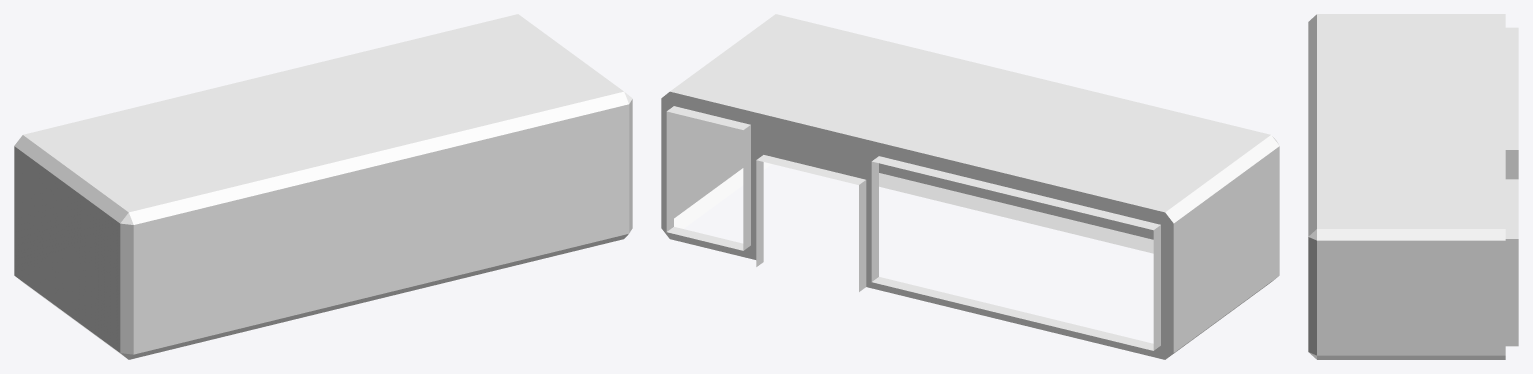
Rendered from MiscRoom_02_Walls.fbx.
3 renders of one model, left to right at view 1: azimuth 30°, elevation 25°; view 2: azimuth 150°, elevation 25°; view 3: azimuth 270°, elevation 25°, orthographic. The views are drawn at different scales.
Visible parts, largest first — view 1: MiscRoom_02_Walls; view 2: MiscRoom_02_Walls; view 3: MiscRoom_02_Walls.
Boxes of the visible parts, <box> form: MiscRoom_02_Walls: <box>14,14,632,359</box>; MiscRoom_02_Walls: <box>661,14,1279,359</box>; MiscRoom_02_Walls: <box>1308,14,1518,359</box>.
Bounding box in the file's own units: 4000 × 1100 × 1600.
